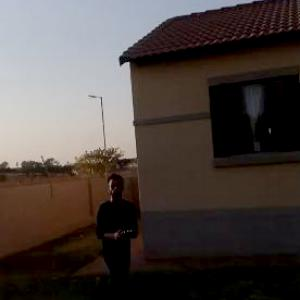follow: (88, 164, 152, 299)
